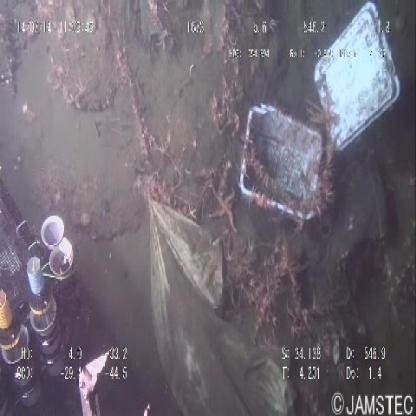Rov: (1, 140, 158, 416)
Rác: (233, 2, 406, 245)
